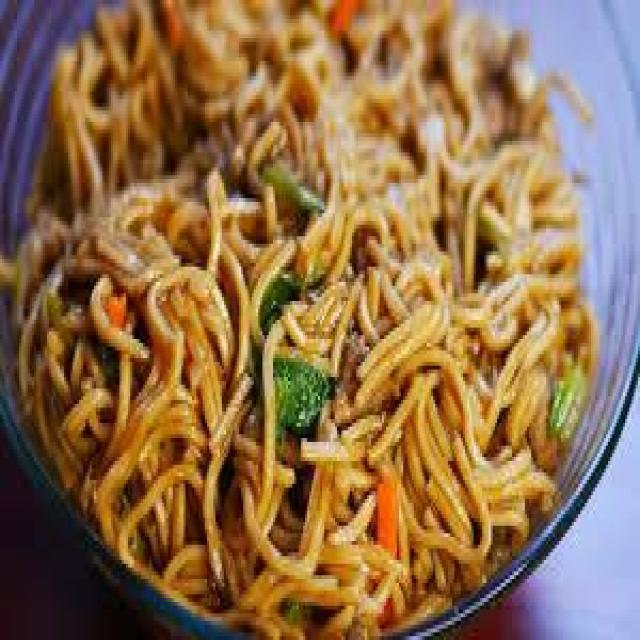pancit bihon: (27, 45, 606, 615)
